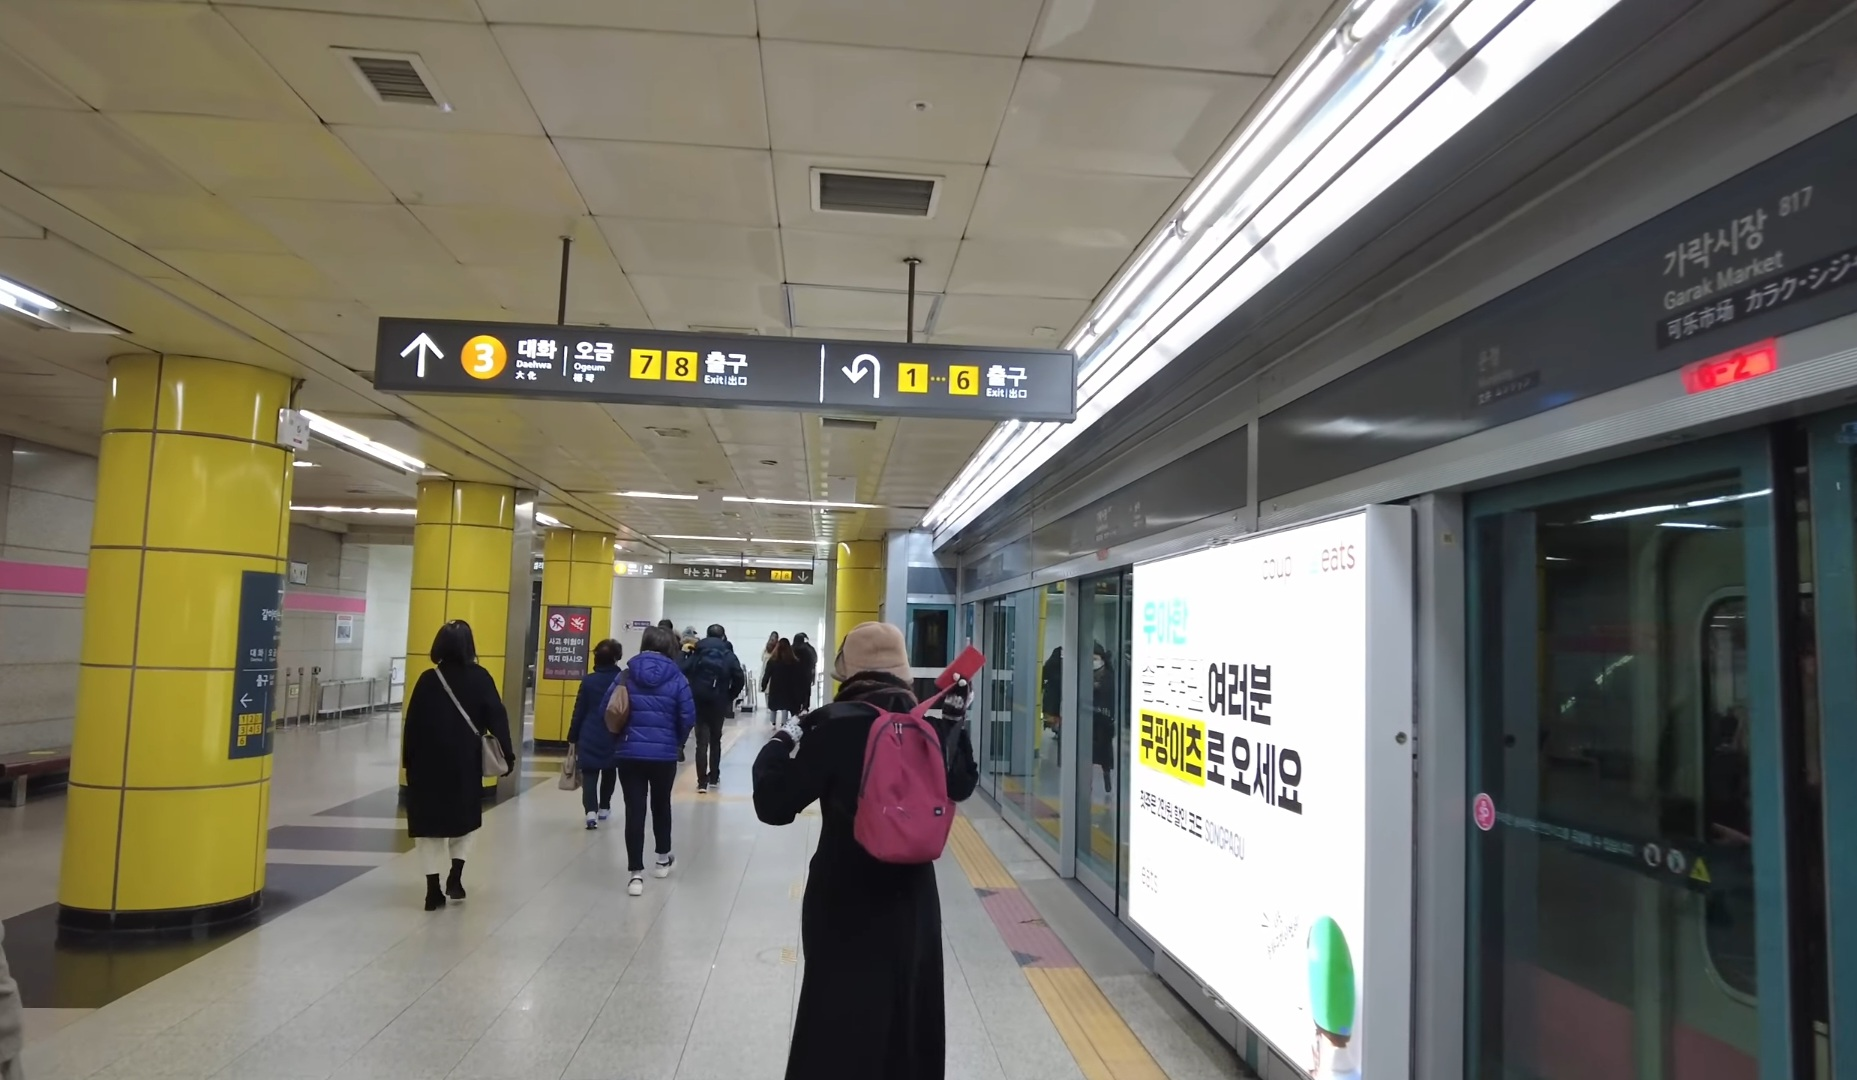signBoard: (368, 309, 1085, 433)
